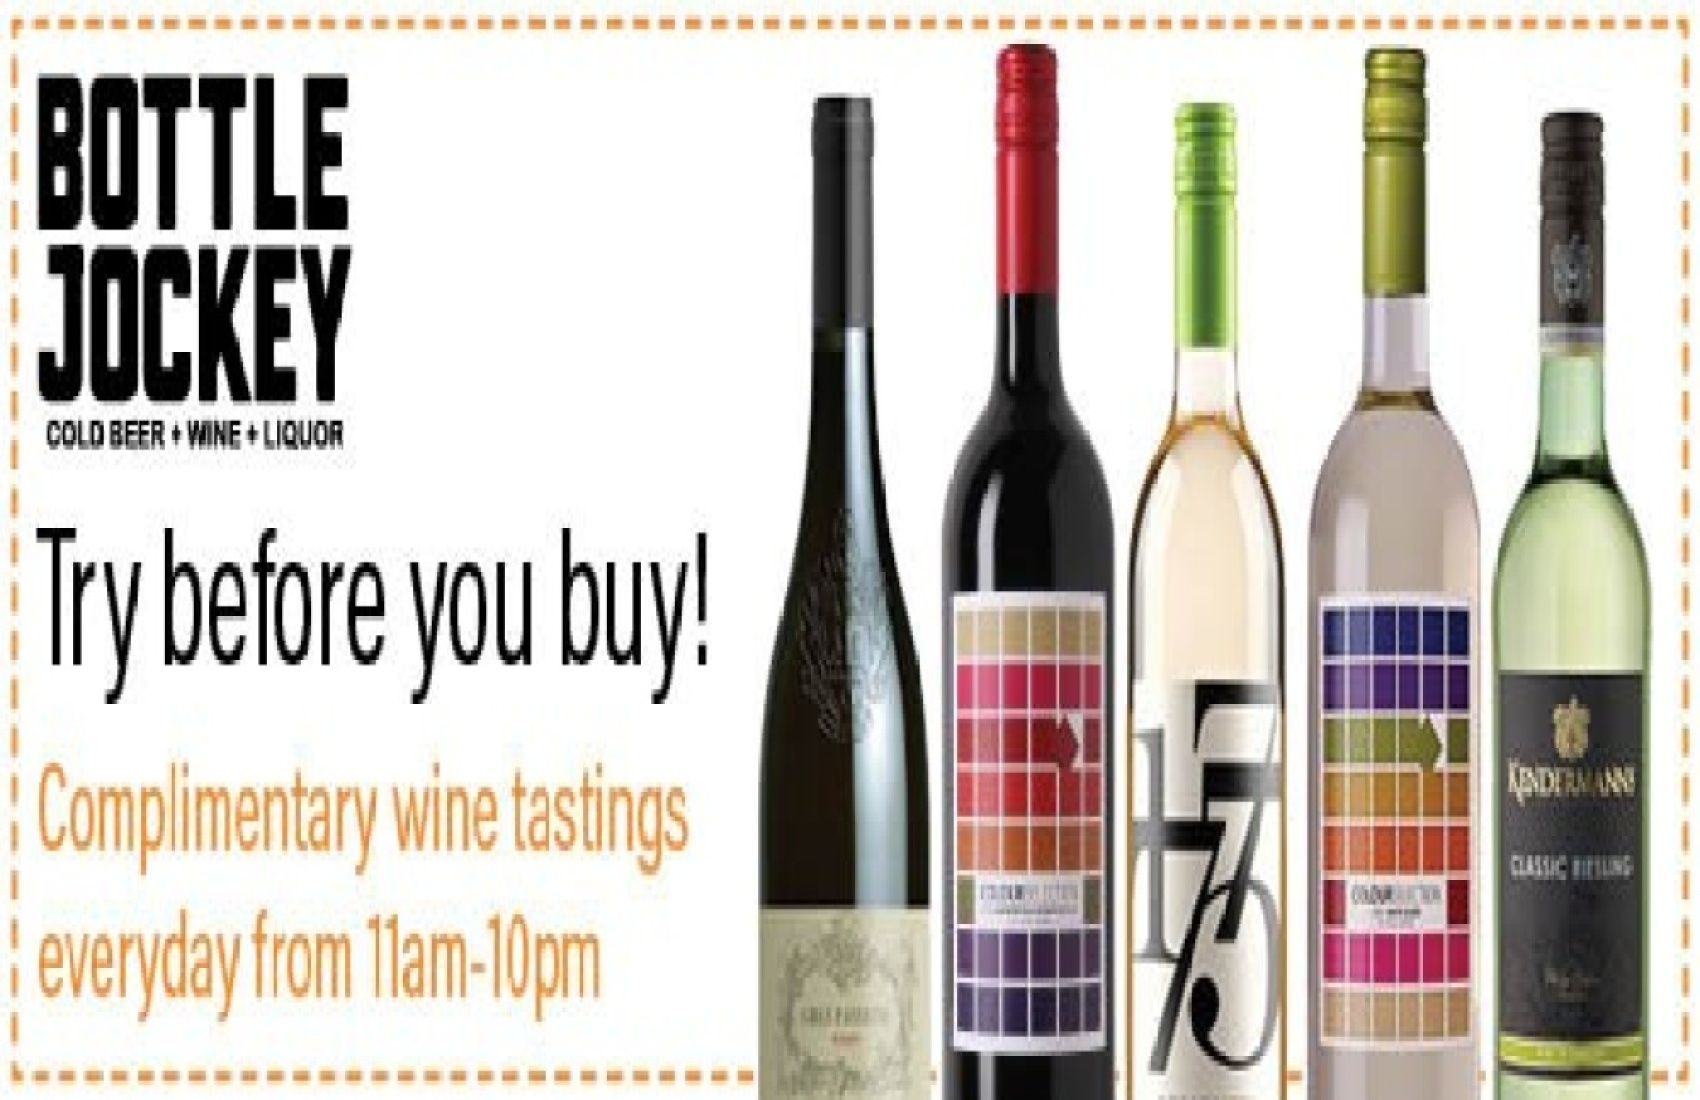wine: (756, 84, 940, 1100), (948, 77, 1111, 1098), (1497, 67, 1660, 1088), (1312, 81, 1474, 1100), (1125, 78, 1287, 1098)
